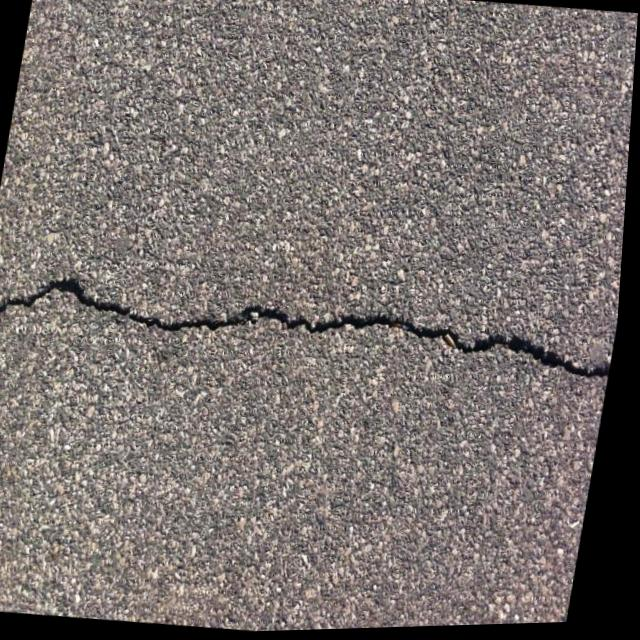Crack: (0, 245, 626, 420)
